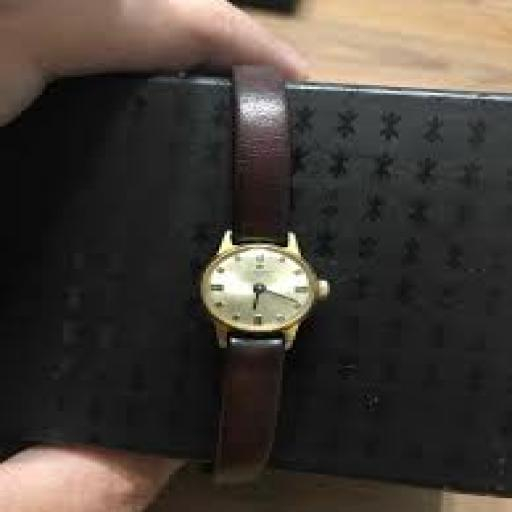KolSaati: (184, 53, 336, 498)
